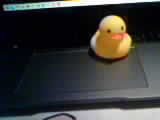duck: (81, 10, 134, 61)
